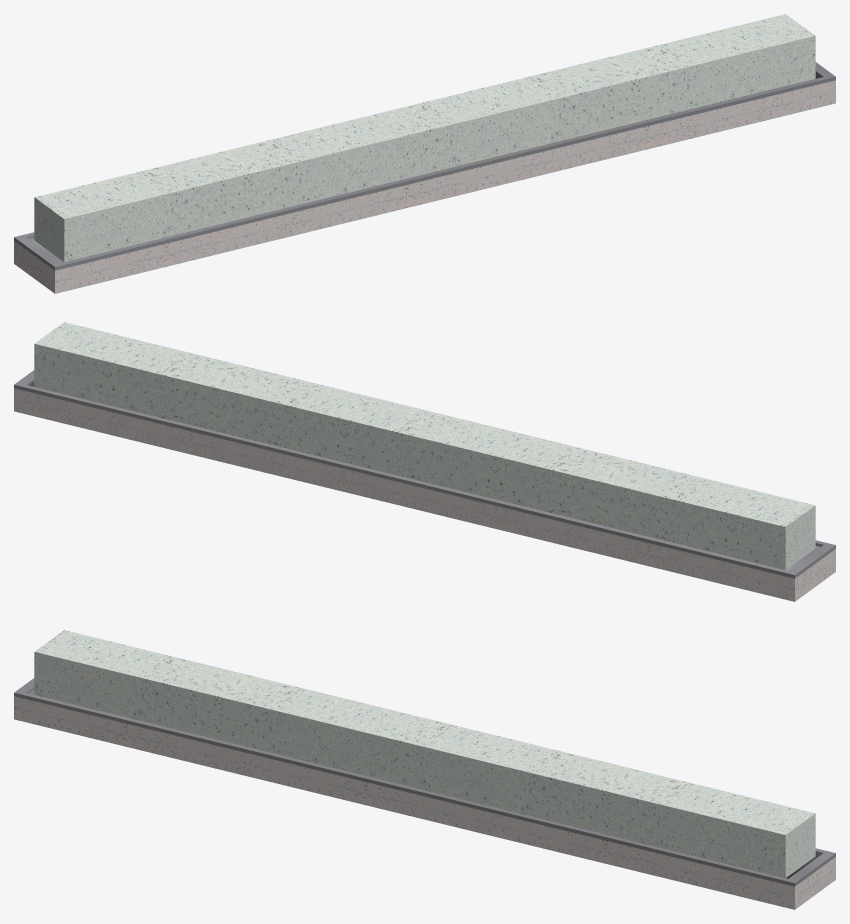
File: grass.fbx
3 renders of one model, top to bottom at view 1: azimuth 30°, elevation 25°; view 2: azimuth 150°, elevation 25°; view 3: azimuth 330°, elevation 25°, orthographic.
Parts seen in each view (by area): view 1: grass.004; view 2: grass.004; view 3: grass.004.
Part boxes in pixels (left/top/right/bottom): grass.004: left=14, top=14, right=835, bottom=293; grass.004: left=14, top=322, right=835, bottom=601; grass.004: left=14, top=630, right=835, bottom=909.
Bounding box in the file's own units: 159 × 13.02 × 14.49.
